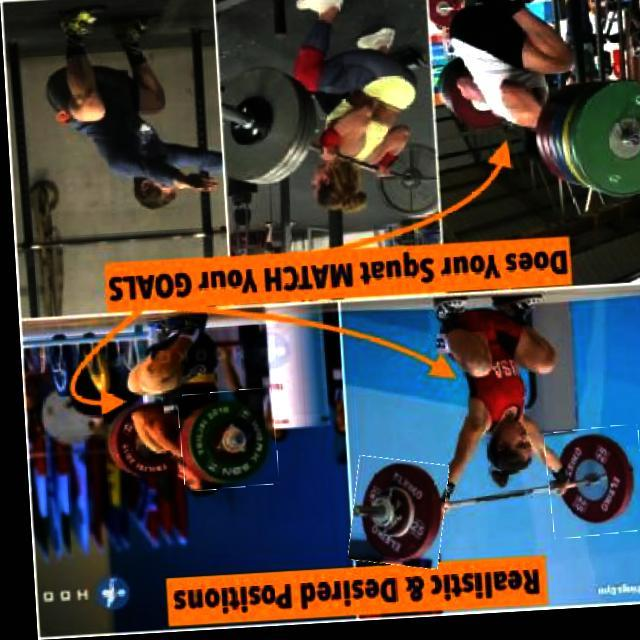barbell: (342, 460, 444, 575), (540, 433, 640, 545), (173, 392, 274, 493)
